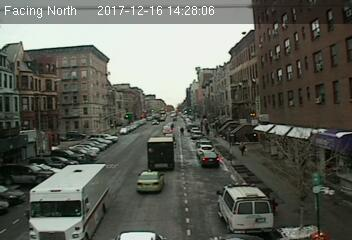car: (135, 170, 165, 192)
police: (216, 182, 273, 232)
truck: (23, 163, 112, 240)
ups: (146, 136, 177, 171)
